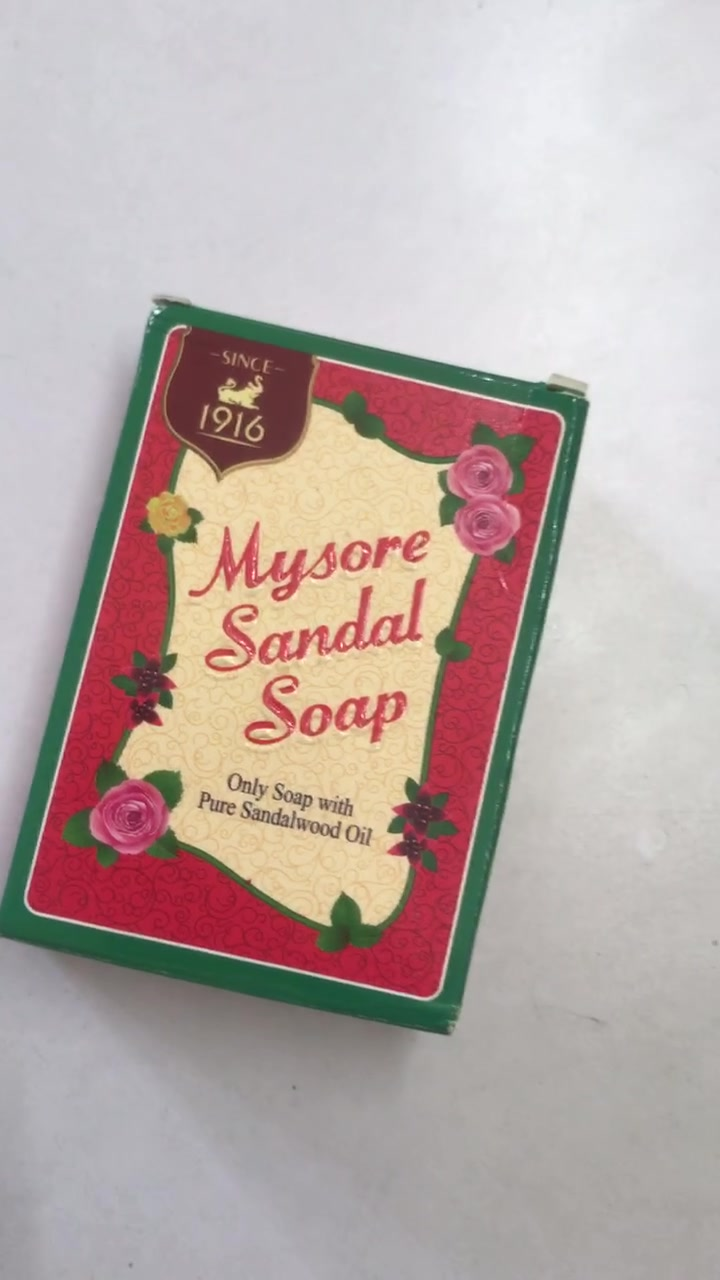mysore sandal soap: (8, 298, 584, 1037)
